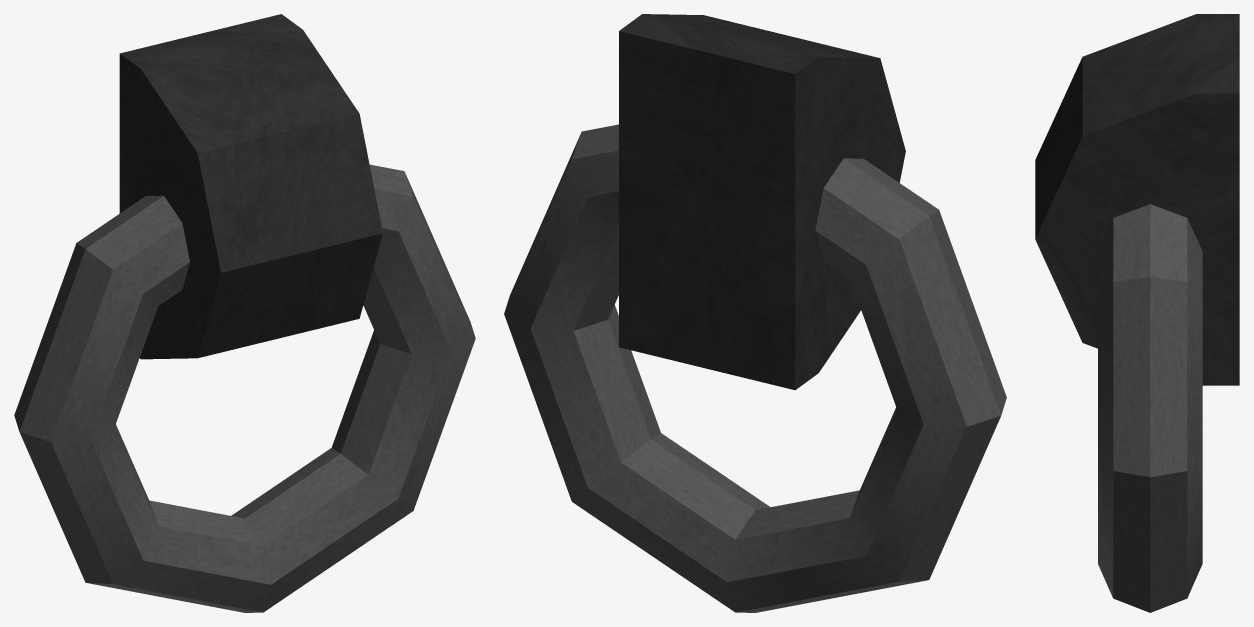
Rendered from DoorHandle.fbx.
3 renders of one model, left to right at view 1: azimuth 30°, elevation 25°; view 2: azimuth 150°, elevation 25°; view 3: azimuth 270°, elevation 25°, orthographic. The views are drawn at different scales.
Parts seen in each view (by area): view 1: Torus, DoorHandle; view 2: Torus, DoorHandle; view 3: DoorHandle, Torus.
Part boxes in pixels (x1,y1,x2,y2): Torus: (14,164,475,612); DoorHandle: (119,14,382,359); Torus: (504,124,1006,612); DoorHandle: (619,14,905,390); DoorHandle: (1035,14,1239,385); Torus: (1098,204,1202,612).
Bounding box in the file's own units: 25.02 × 28.97 × 9.75.
Materials: 2 (2 with a texture image).
